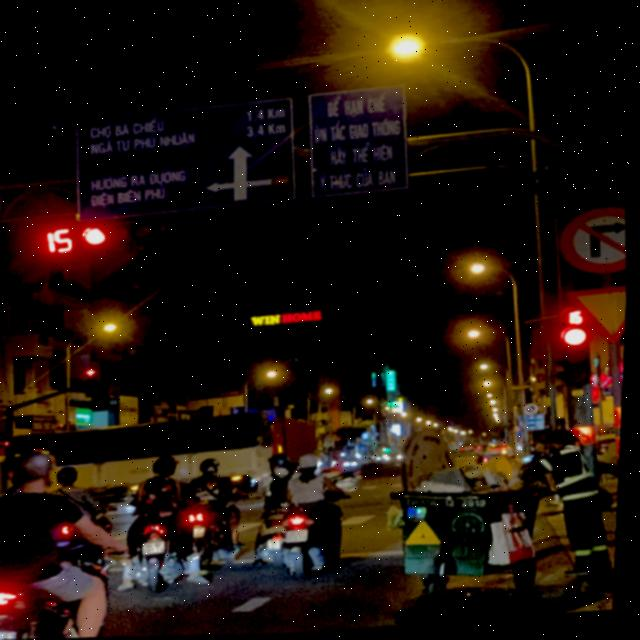Red: (76, 217, 169, 254), (553, 328, 603, 392)
